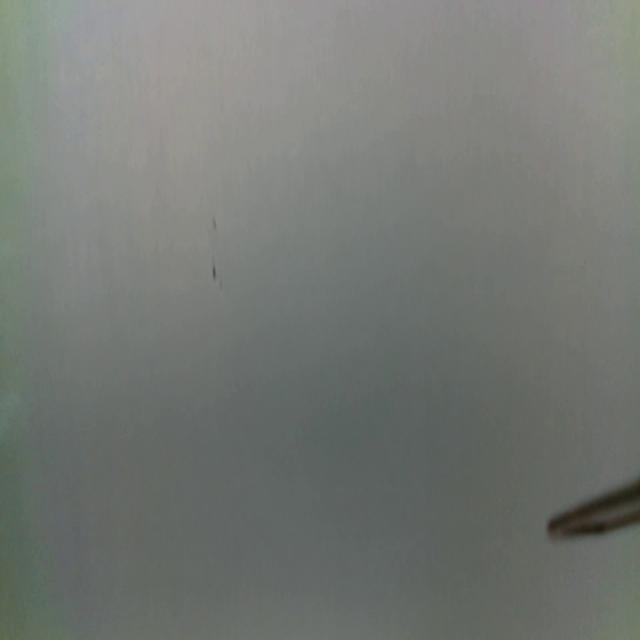hole: (211, 216, 219, 236), (210, 262, 218, 281)
